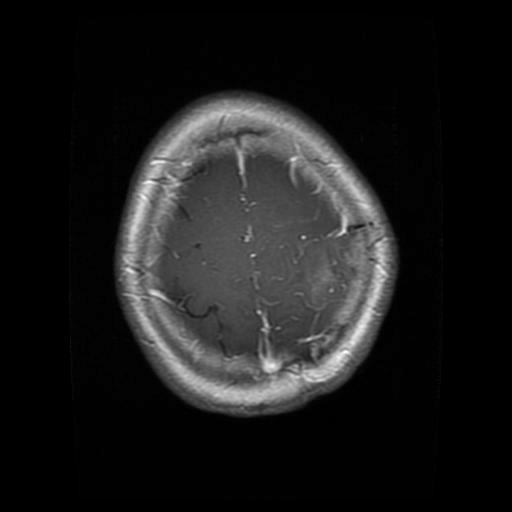Tumour-Glioma: (323, 239, 366, 298)
